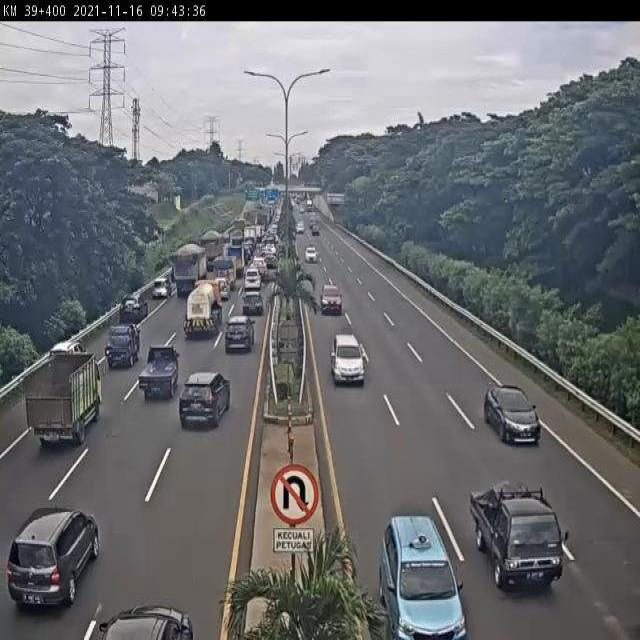car: (472, 481, 570, 592), (379, 517, 467, 640), (8, 508, 102, 617), (483, 381, 542, 448), (177, 370, 232, 430), (137, 344, 183, 405), (331, 333, 367, 387), (102, 324, 139, 373), (223, 318, 255, 358), (115, 294, 146, 326), (242, 290, 266, 318), (321, 284, 342, 315), (149, 279, 172, 305), (214, 275, 235, 301), (242, 270, 259, 294)
small truck: (24, 349, 105, 447)
truck-m-: (180, 280, 226, 344), (170, 242, 209, 298)
